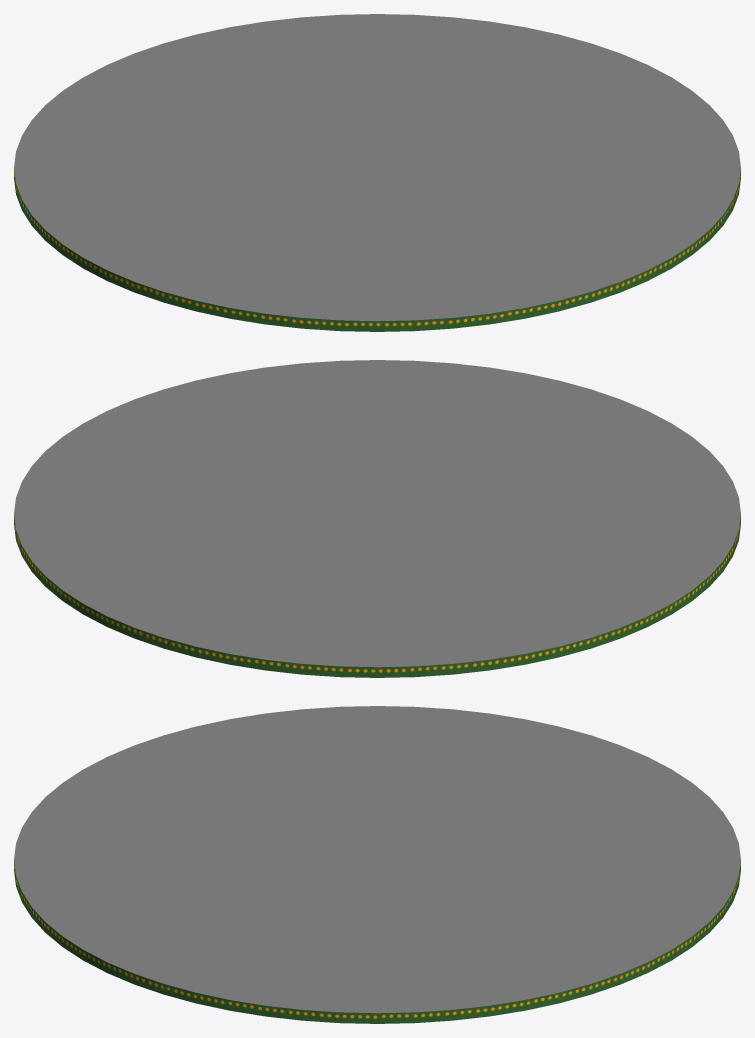
The model's file is SM_PiedMain.FBX.
The picture shows the model from 3 angles, top to bottom: view 1: azimuth 30°, elevation 25°; view 2: azimuth 150°, elevation 25°; view 3: azimuth 270°, elevation 25°; orthographic projection.
Visible parts, largest first — view 1: SM_PiedMain_LOD0; view 2: SM_PiedMain_LOD0; view 3: SM_PiedMain_LOD0.
Part boxes in pixels (x1,y1,x2,y2): SM_PiedMain_LOD0: (14, 14, 740, 331); SM_PiedMain_LOD0: (14, 360, 740, 677); SM_PiedMain_LOD0: (14, 706, 740, 1023).
Size of what is drawn, in the model's own units: 1255 by 20.49 by 1255.
